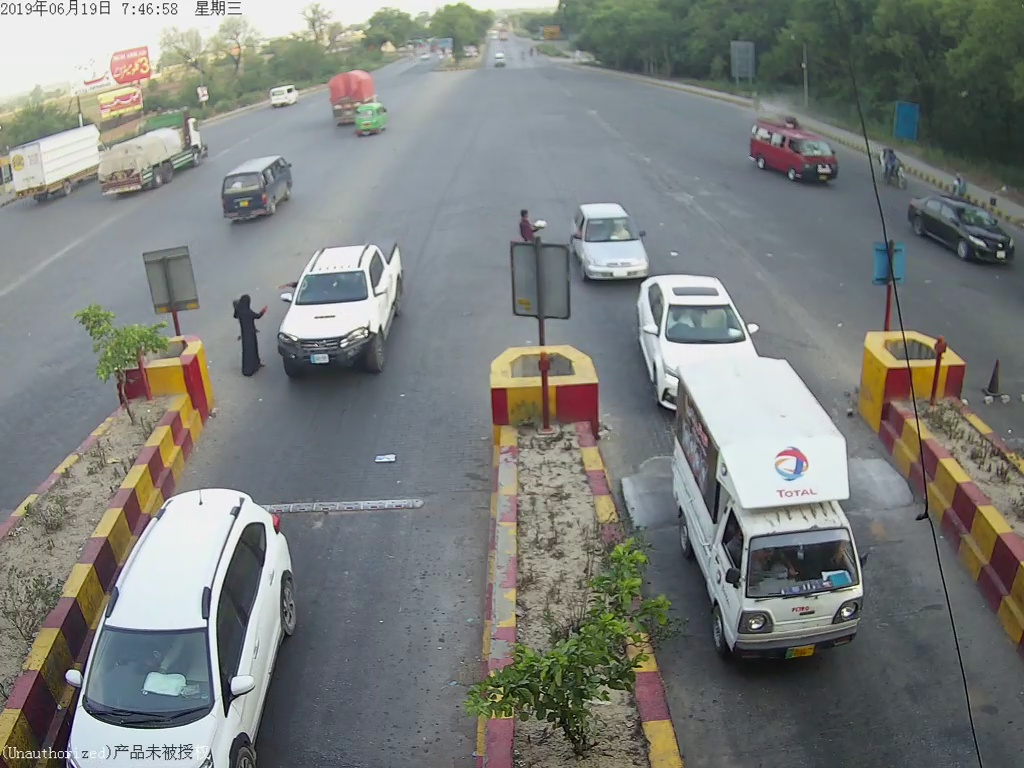Cat-1: (677, 366, 885, 671), (277, 229, 412, 386), (568, 188, 650, 281)
